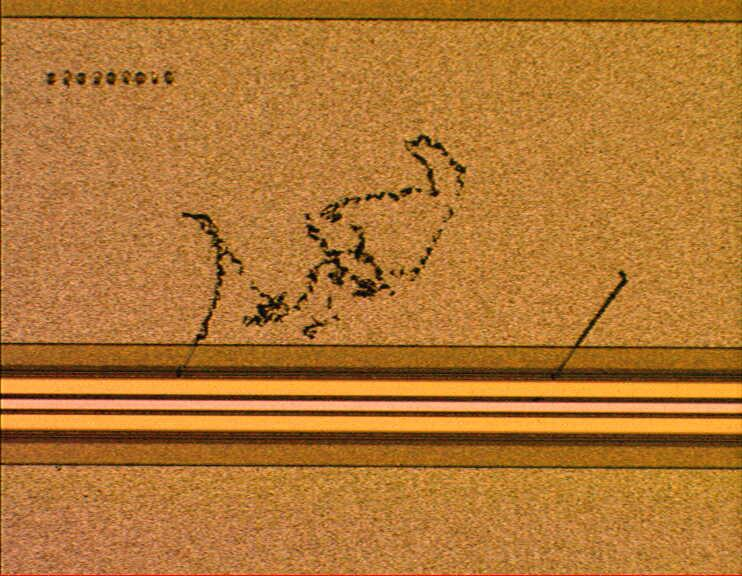SCRATCH: (163, 129, 640, 394)
